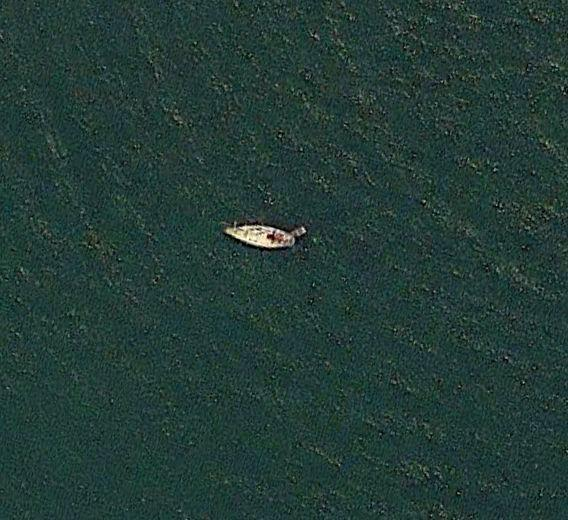Ships: (213, 198, 316, 269)
